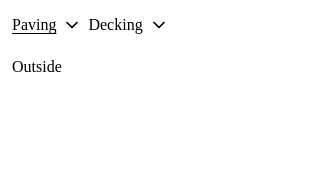
Test case: MegaMenu › opens one panel at a time and closes on a click outside
Later steps or results of the test are not shown.
Click the button named "Paving menu" at point(72, 25), box [56,14,88,36]
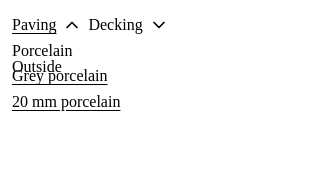
Click the button named "Decking menu" at point(159, 25), box [143,14,175,36]
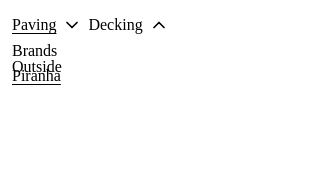
expect the button named "Paving menu" is collapsed: met, box [56,14,88,36]
